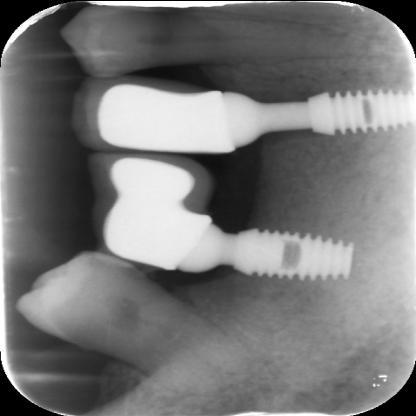Bicon: (231, 228, 355, 282), (301, 85, 416, 135)
